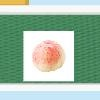half-ripe: (30, 39, 66, 73)
